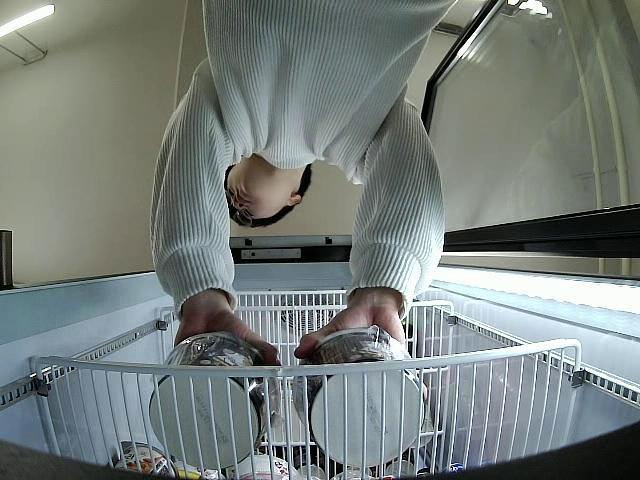07_buldak_L: (292, 326, 427, 468), (148, 336, 282, 469)
